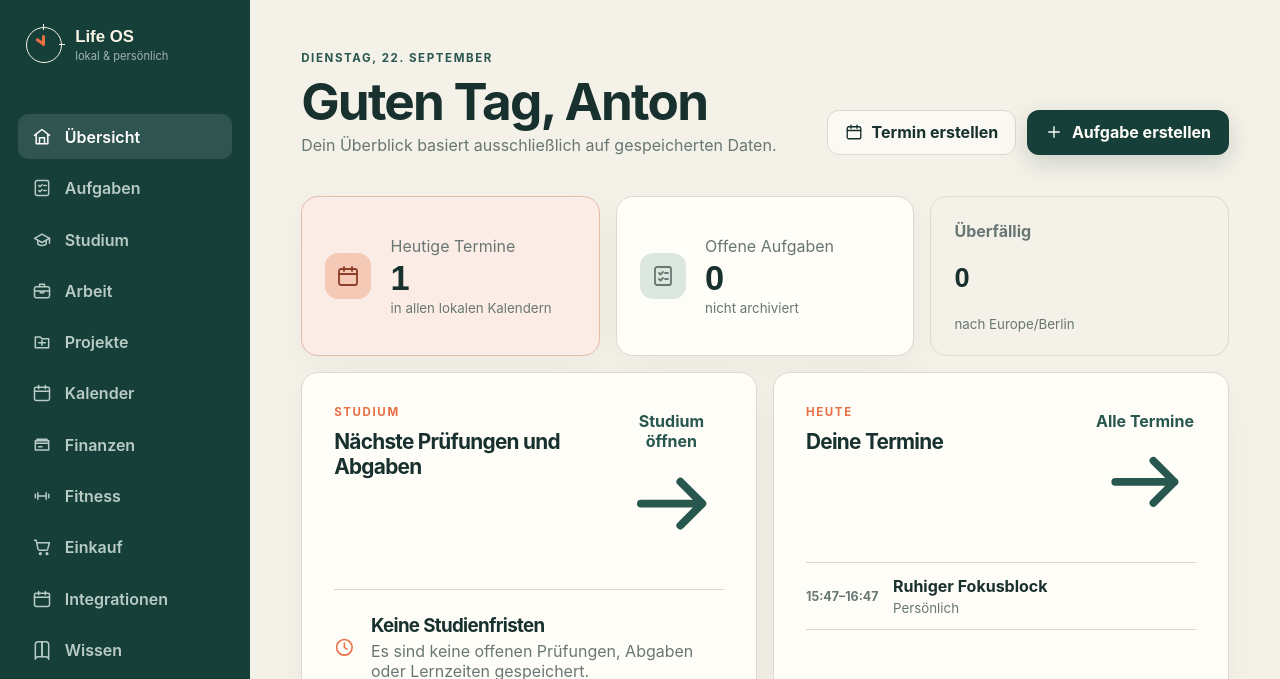
LifeOS-Weboberfläche › zeigt für eine leere Aufgabenliste eine klare nächste Aktion
Expected: the heading "Guten Tag, Anton" is shown, [301,76,776,127]
Click the button "Aufgaben" at (125, 188), box [18,166,232,211]
(page scrolled)
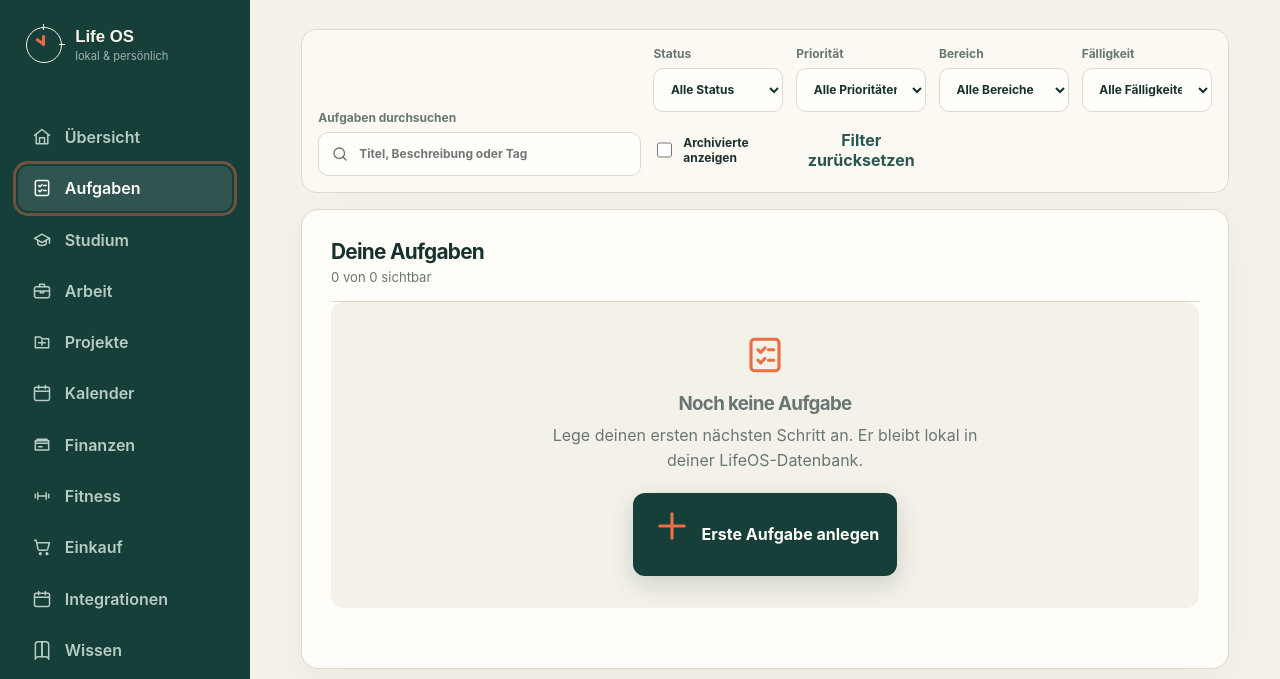
Result: the heading "Noch keine Aufgabe" is shown at [678,392,852,415]
Result: the button "Erste Aufgabe anlegen" is enabled at [633,493,897,576]
